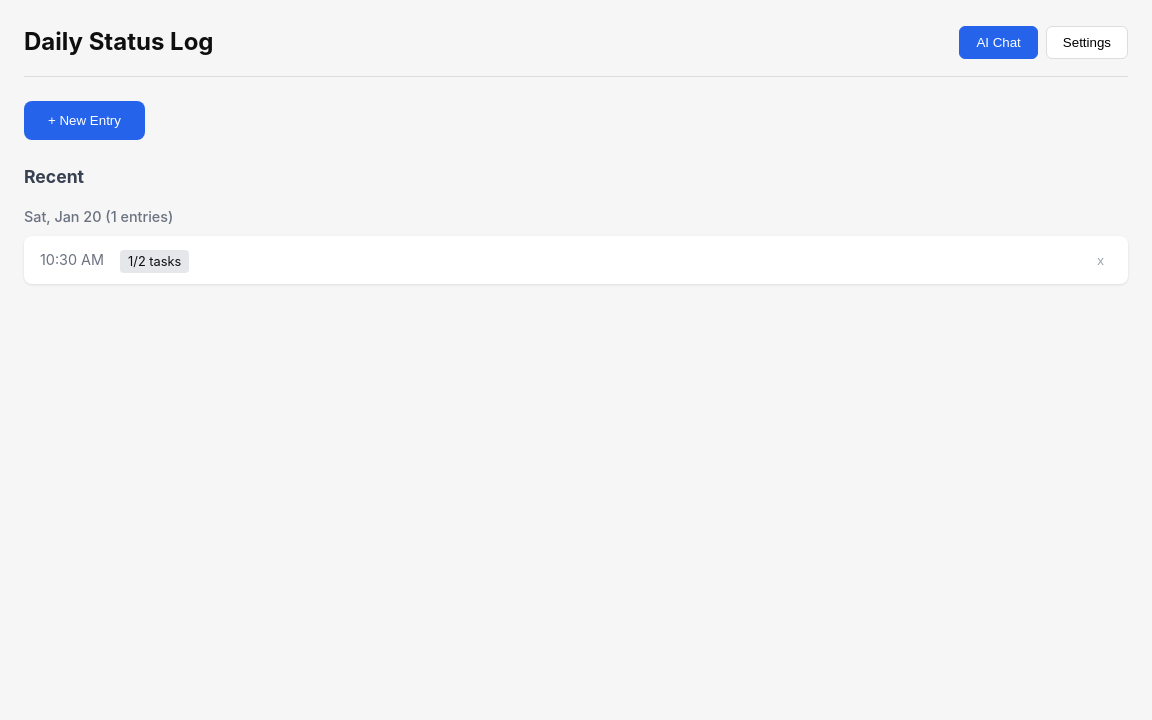
App › opens settings modal when clicking settings button
Step 1. Click the button "Settings" → click(1087, 42), box [1046,26,1128,58]
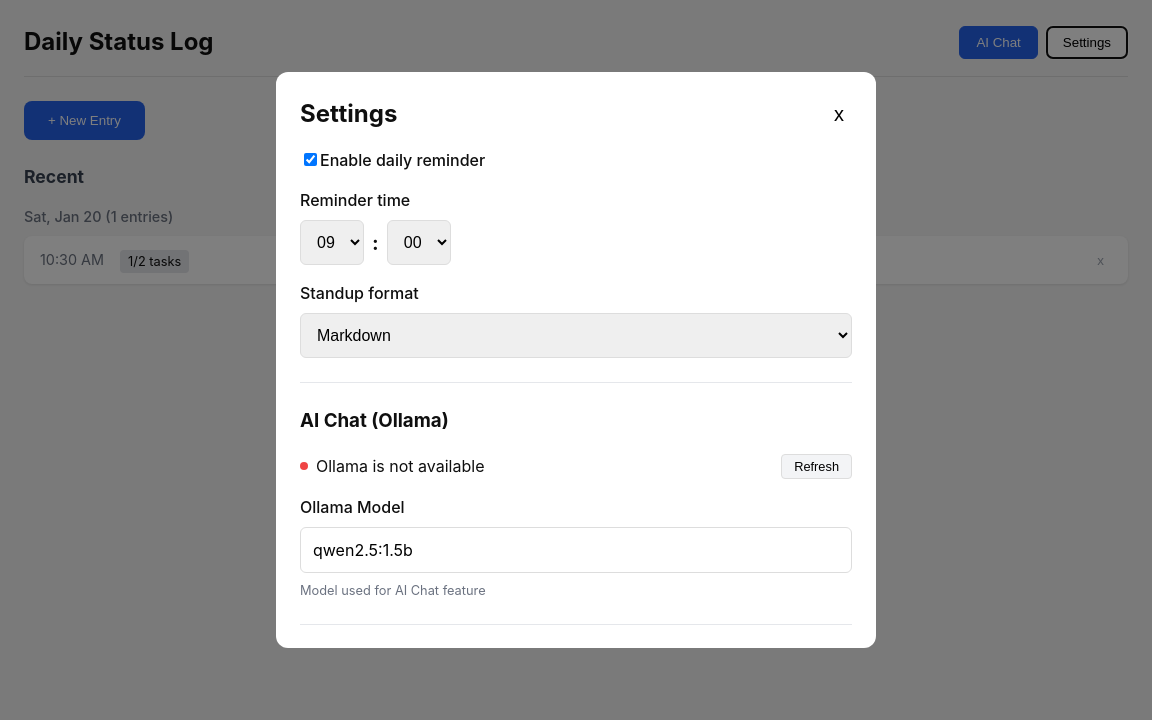
Now the heading "Settings" is shown, box [300,96,397,132]
